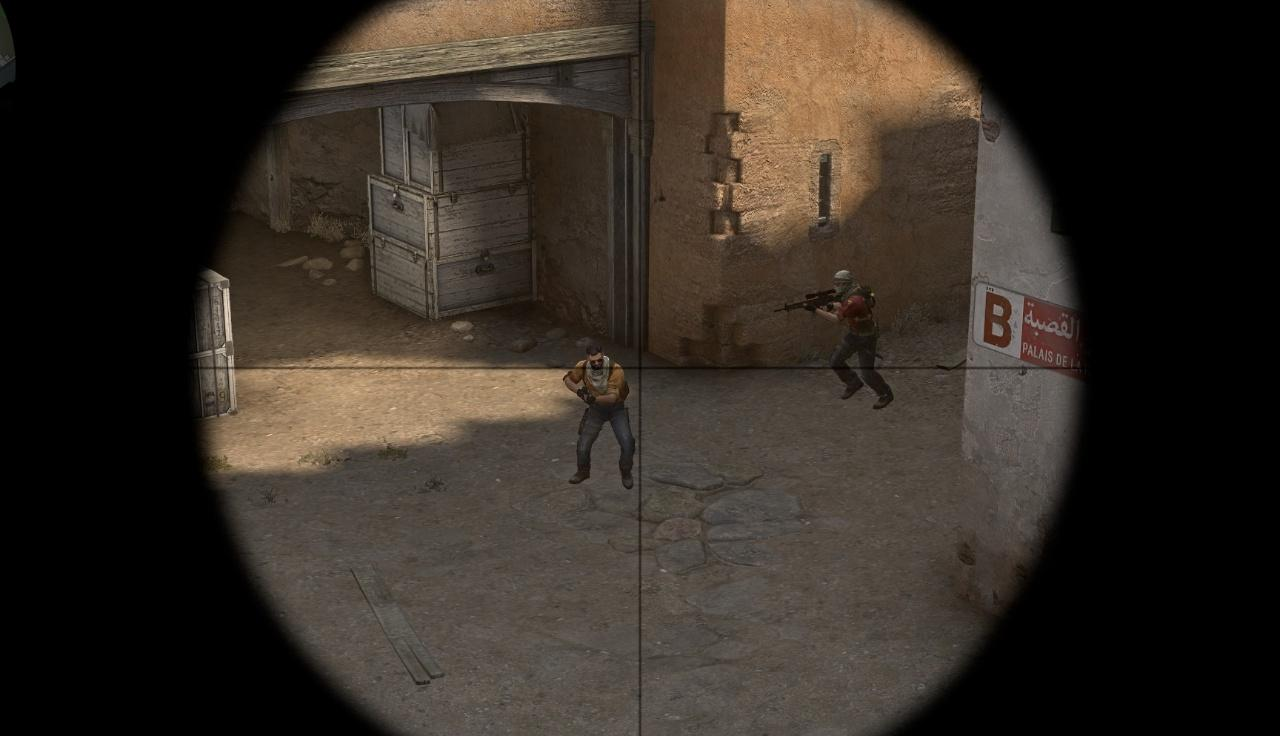tt: (818, 270, 894, 409), (564, 344, 634, 488)
tthead: (834, 271, 852, 295), (587, 344, 603, 369)
